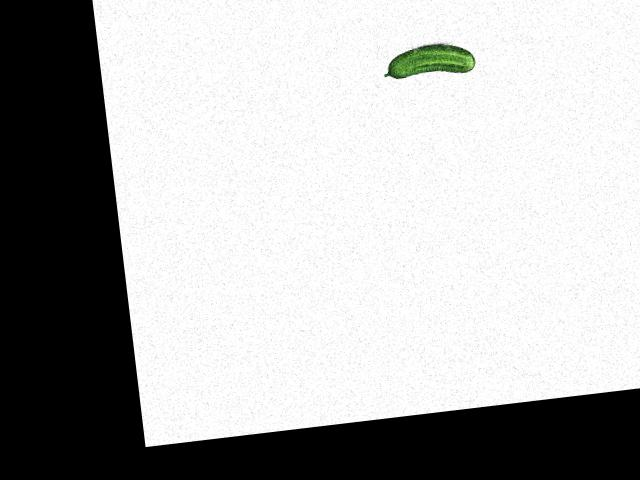cucumber: (381, 39, 476, 81)
